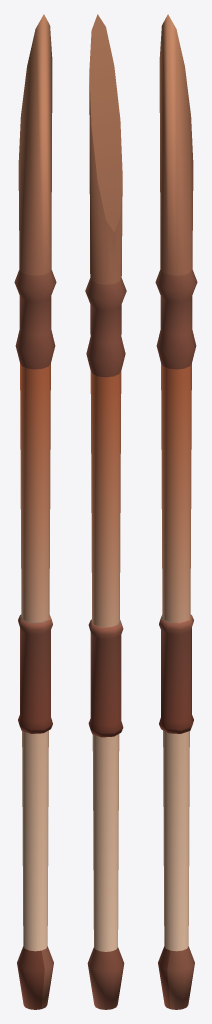
The model's file is Javline.fbx.
3 views of the same model, side by side, from view 1: azimuth 30°, elevation 25°; view 2: azimuth 210°, elevation 25°; view 3: azimuth 330°, elevation 25° (orthographic).
Parts seen in each view (by area): view 1: Javline; view 2: Javline; view 3: Javline.
Part boxes in pixels (x1,y1,x2,y2): Javline: [14, 14, 56, 1009]; Javline: [85, 14, 126, 1009]; Javline: [155, 14, 197, 1009].
Size of the model in its own units: 0.1067 by 0.1067 by 2.79.
Materials: 1 (1 with a texture image).
